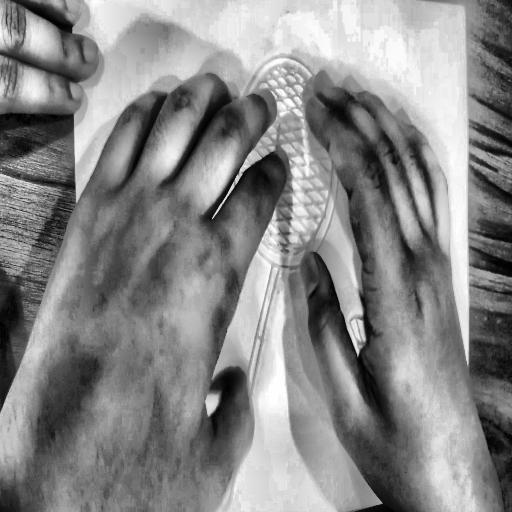badminton: (177, 42, 410, 512)
bottom_right: (469, 479, 478, 494)
top_right: (461, 0, 468, 12)
